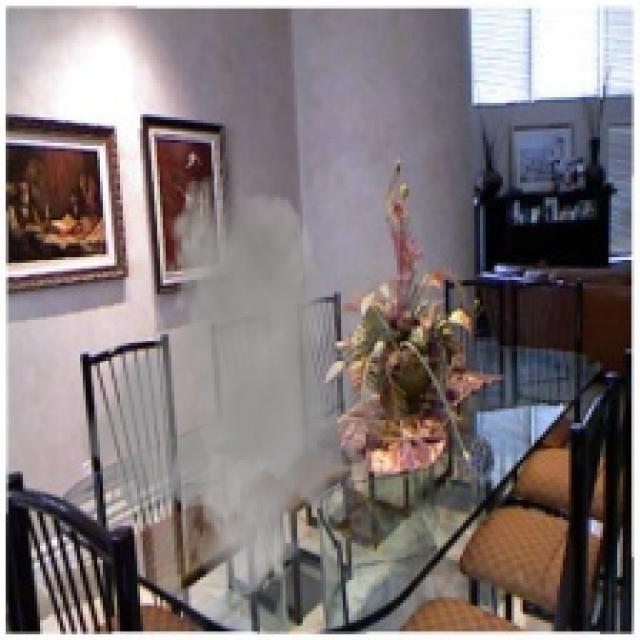smoke: (69, 174, 448, 597)
